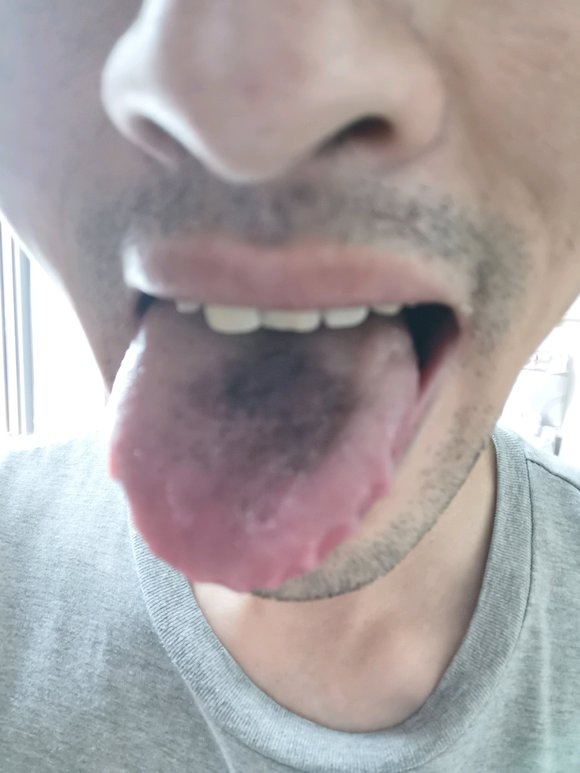chihenshe: (274, 410, 413, 589)
heitaishe: (106, 298, 419, 591)
